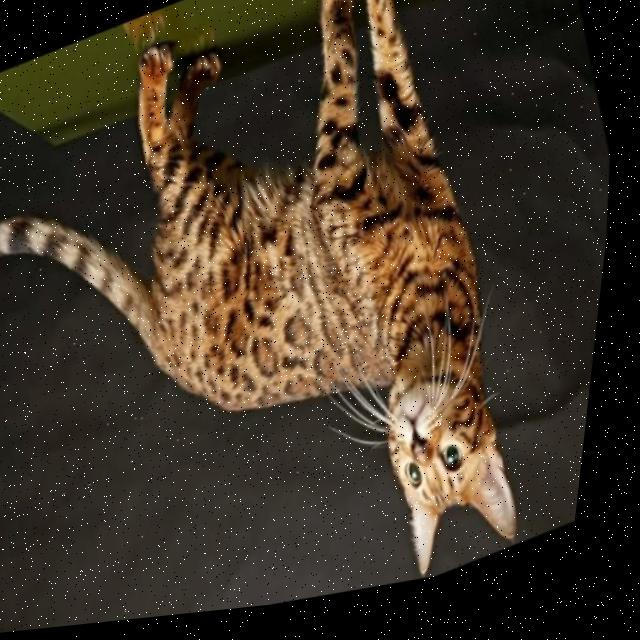Cats: (0, 0, 531, 583)
